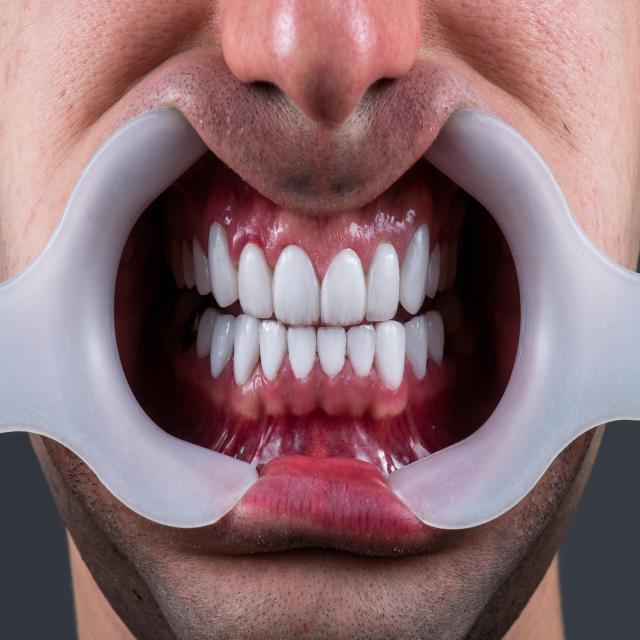tooth: (273, 243, 321, 326), (320, 248, 366, 326), (238, 240, 274, 319), (399, 224, 430, 314), (366, 242, 400, 322), (208, 222, 239, 308), (373, 320, 405, 390), (234, 314, 262, 385), (259, 320, 288, 381), (210, 314, 236, 379), (403, 315, 429, 379), (287, 325, 317, 379), (346, 325, 376, 377), (317, 326, 346, 377)
